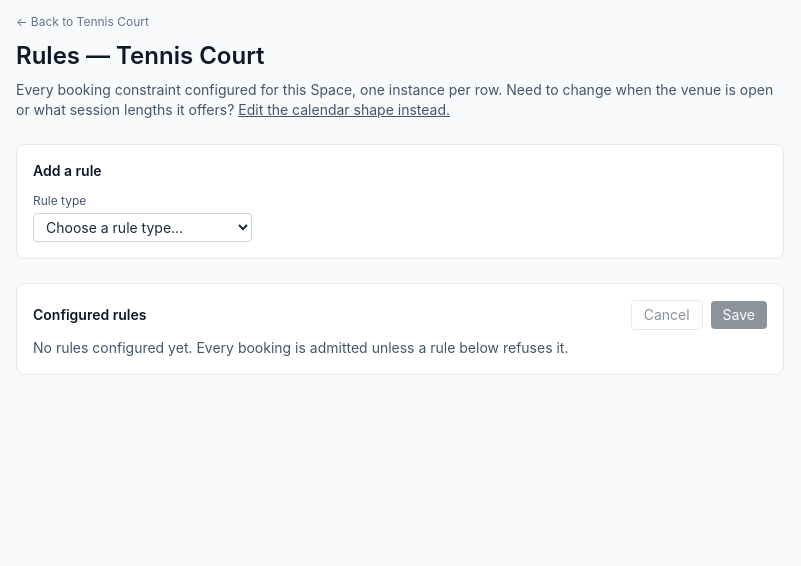
Test: SpaceRulesPage — create, pause, delete › creates a rule scoped to a weekday, and the scope reaches the wire body
Select "Maximum booking duration" in the dropdown with test id "add-rule-type-select": (142, 228) left=33, top=213, right=252, bottom=242
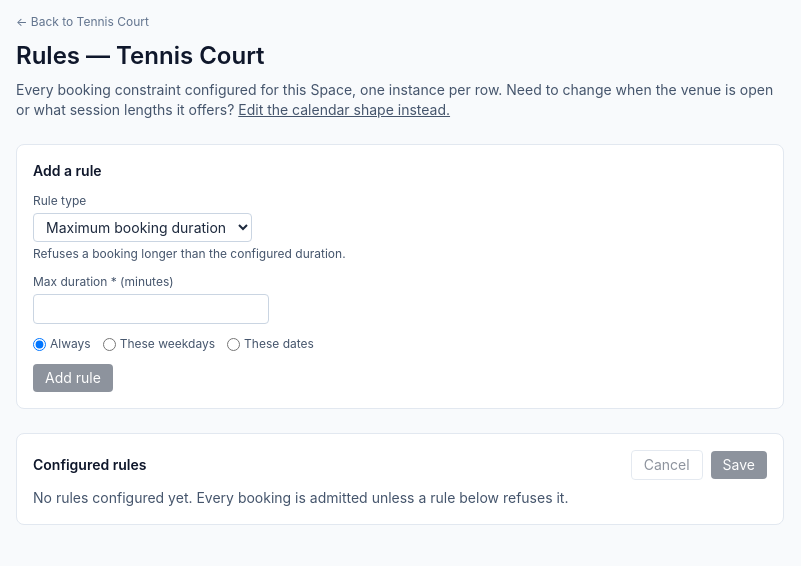
In the number field with test id "add-rule-param-max_duration_minutes": (151, 309) left=33, top=294, right=269, bottom=324, type "90"
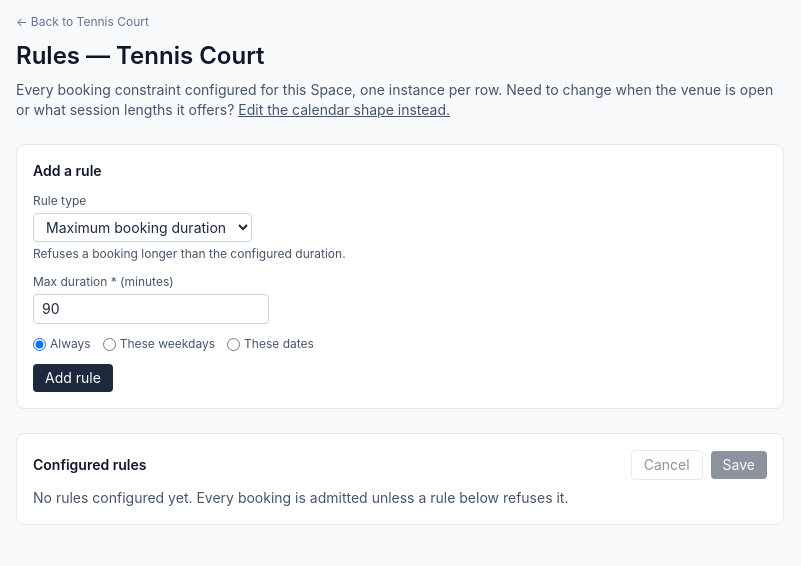
Click the radio button with test id "add-rule-applies-mode-weekdays": (109, 344) left=103, top=338, right=116, bottom=350
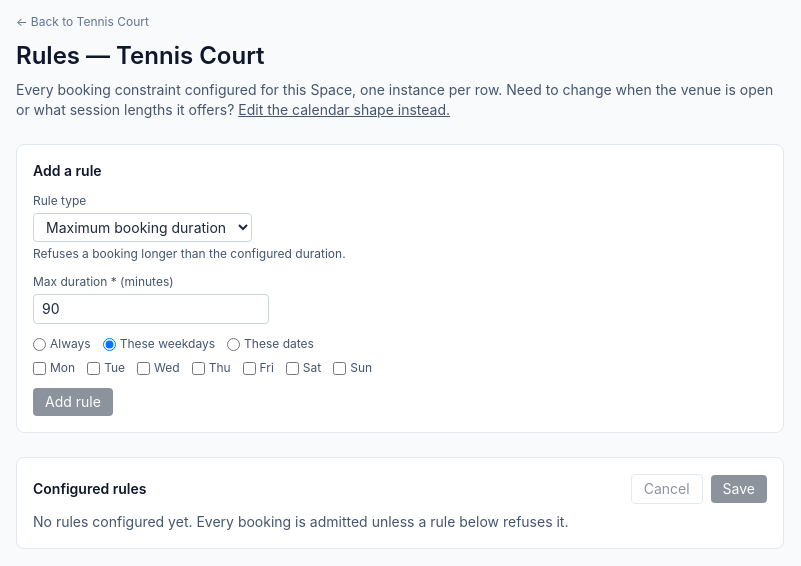
Click the checkbox with test id "add-rule-applies-weekday-2": (144, 368) left=137, top=362, right=150, bottom=374
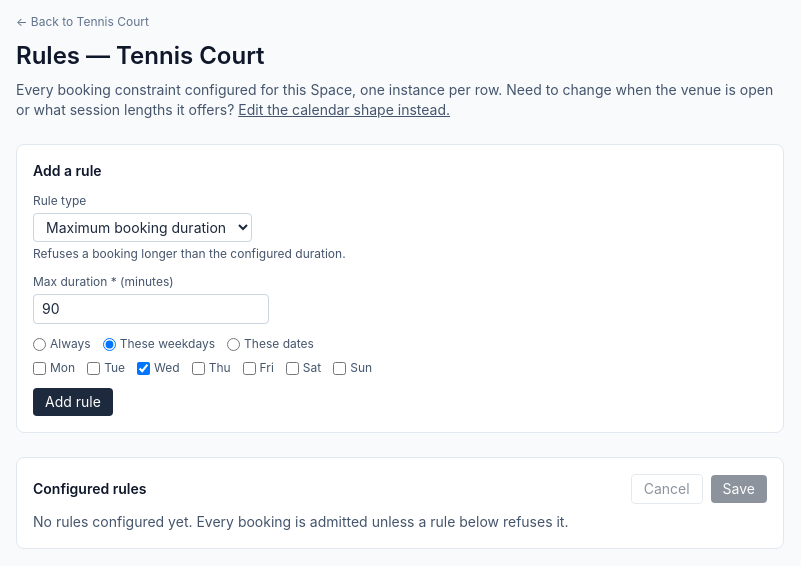
Click the button with test id "add-rule-submit": (73, 402) left=33, top=388, right=113, bottom=416
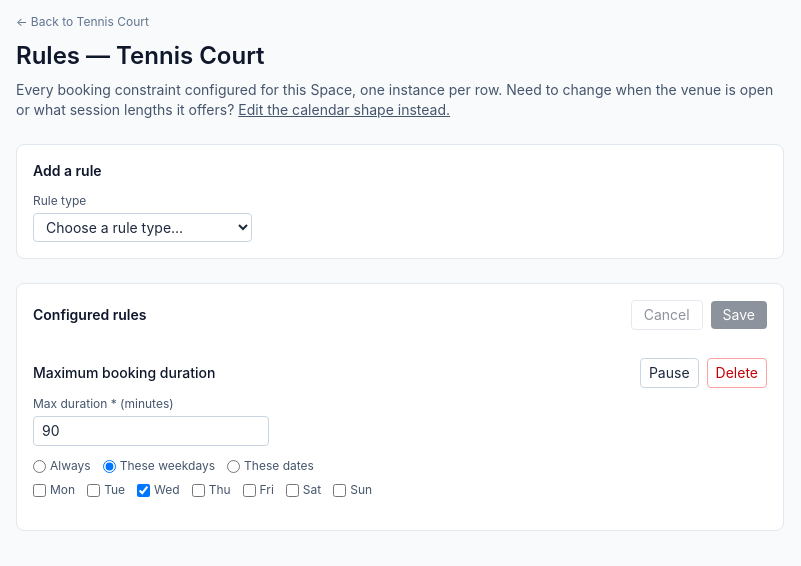
Check: the list item with test id "rule-6" is shown, box left=33, top=342, right=767, bottom=514
